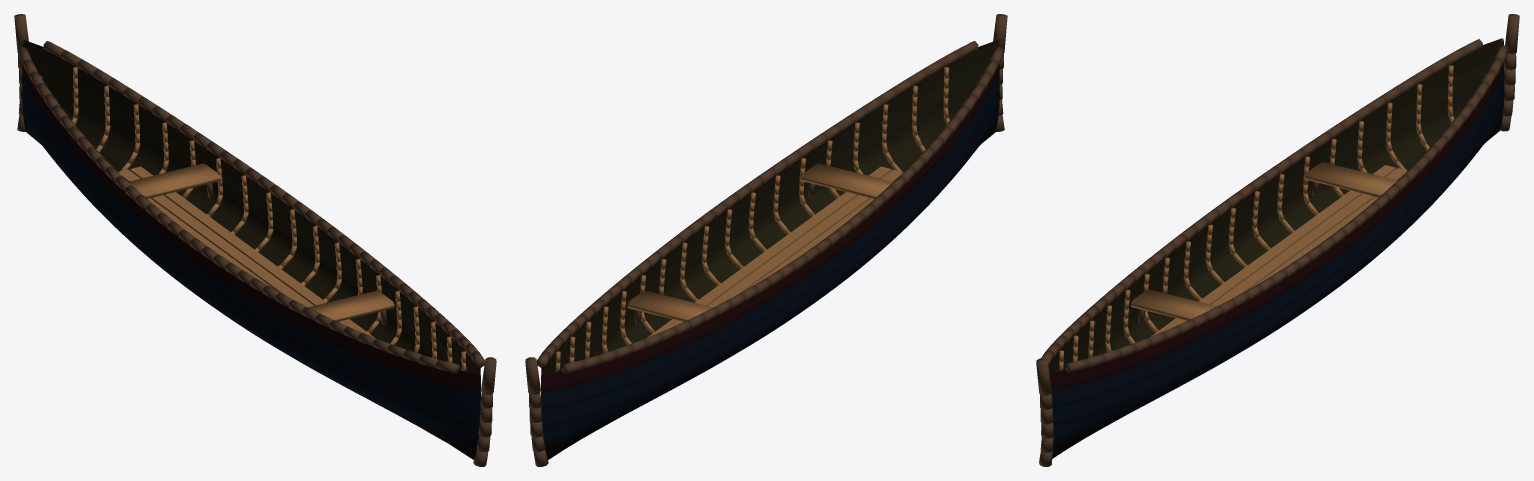
File: canoa.glb
3 renders of one model, left to right at view 1: azimuth 30°, elevation 25°; view 2: azimuth 150°, elevation 25°; view 3: azimuth 330°, elevation 25°, orthographic.
Visible parts, largest first — view 1: Casco, Assoalho.004, Assoalho.003, Banco.001, Banco, Assoalho.002; view 2: Casco, Assoalho.004, Assoalho.003, Banco, Banco.001, Assoalho.002; view 3: Casco, Assoalho, Assoalho.001, Banco.001, Banco, Assoalho.002.
Boxes of the visible parts, x1,y1,x2,y2 form: Casco: [22, 40, 480, 459]; Assoalho.004: [130, 166, 374, 337]; Assoalho.003: [118, 169, 313, 307]; Banco.001: [128, 163, 221, 198]; Banco: [308, 290, 394, 321]; Assoalho.002: [148, 198, 273, 288]; Casco: [541, 40, 999, 459]; Assoalho.004: [647, 166, 891, 337]; Assoalho.003: [708, 169, 903, 307]; Banco: [800, 163, 893, 198]; Banco.001: [627, 290, 713, 321]; Assoalho.002: [748, 198, 873, 288]; Casco: [1048, 38, 1504, 458]; Assoalho: [1151, 165, 1395, 336]; Assoalho.001: [1211, 168, 1407, 306]; Banco.001: [1304, 162, 1397, 197]; Banco: [1131, 289, 1216, 320]; Assoalho.002: [1252, 197, 1378, 287].
Bounding box in the file's own units: 0.9631 × 0.9046 × 6.47.
